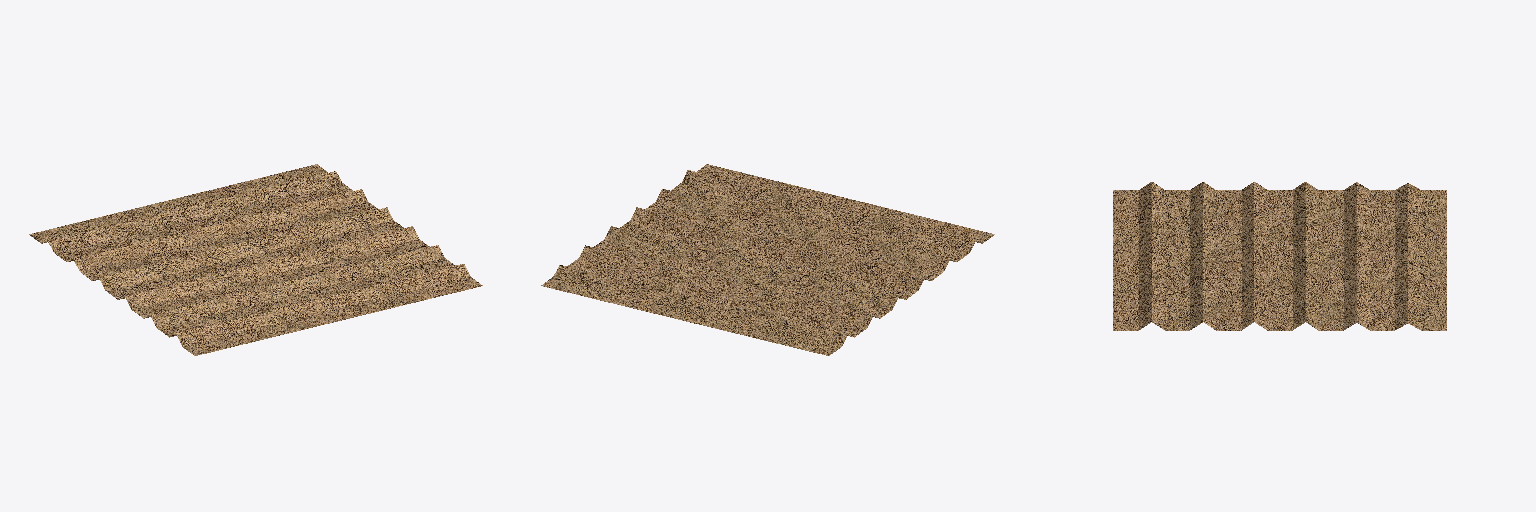
3 renders of one model, left to right at view 1: azimuth 30°, elevation 25°; view 2: azimuth 150°, elevation 25°; view 3: azimuth 270°, elevation 25°, orthographic.
Visible parts, largest first — view 1: land; view 2: land; view 3: land.
Part boxes in pixels (bbox=[...]): land: bbox=[29, 164, 482, 355]; land: bbox=[541, 164, 994, 355]; land: bbox=[1113, 182, 1446, 330].
Bounding box in the file's own units: 10 × 0.2773 × 10.
1 materials, 1 textured.